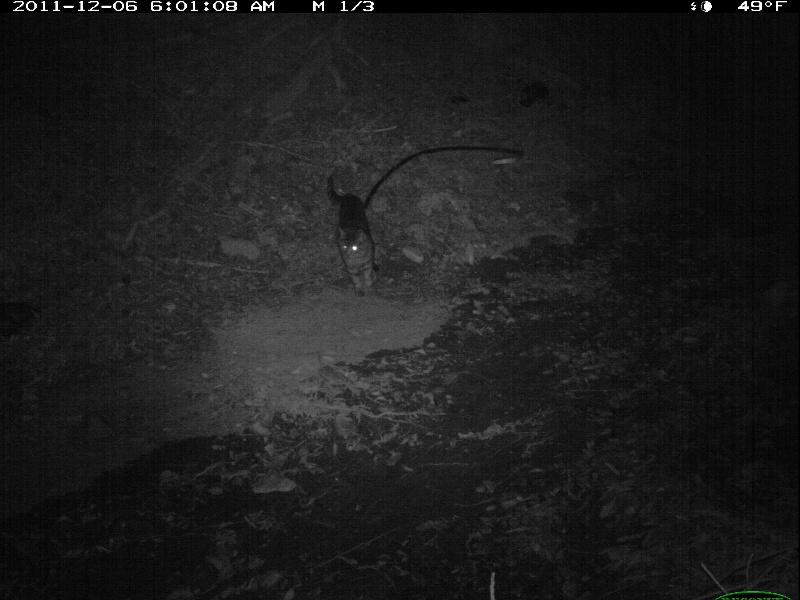cat: (323, 173, 383, 298)
